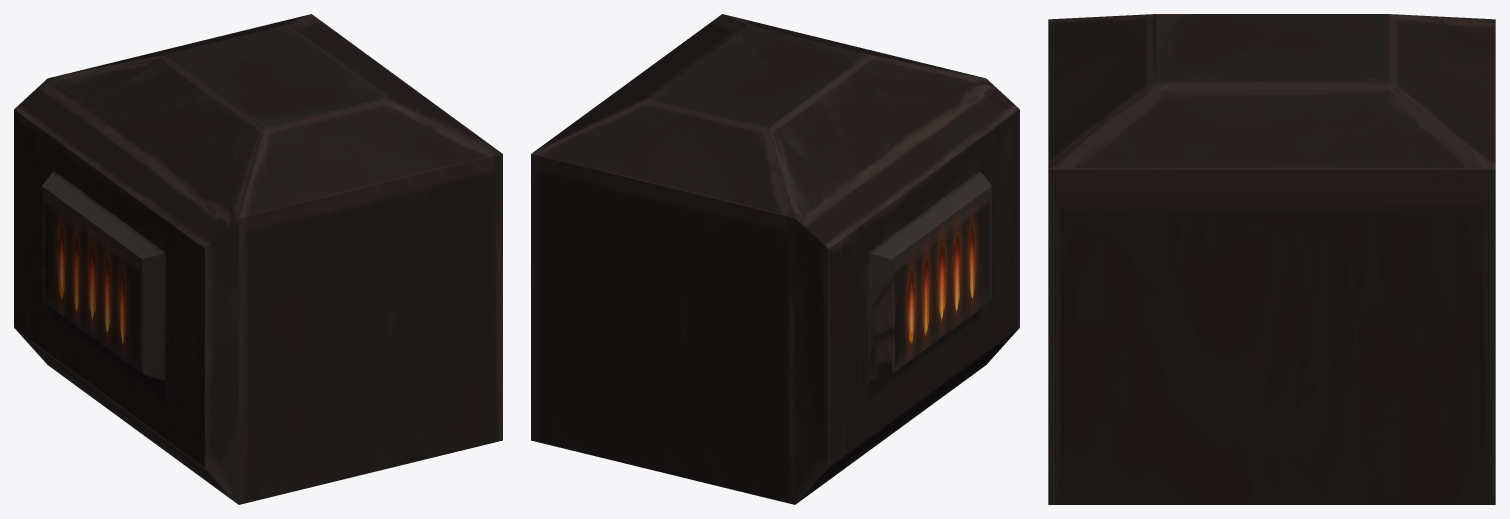
The model's file is furnace_prop.FBX.
3 renders of one model, left to right at view 1: azimuth 30°, elevation 25°; view 2: azimuth 150°, elevation 25°; view 3: azimuth 270°, elevation 25°, orthographic. The views are drawn at different scales.
Visible parts, largest first — view 1: furnace_prop; view 2: furnace_prop; view 3: furnace_prop.
Part boxes in pixels (left/top/right/bottom): furnace_prop: left=14, top=14, right=502, bottom=504; furnace_prop: left=531, top=14, right=1019, bottom=504; furnace_prop: left=1048, top=14, right=1495, bottom=504.
Size of the model in its own units: 31.95 by 31.63 by 33.59.
